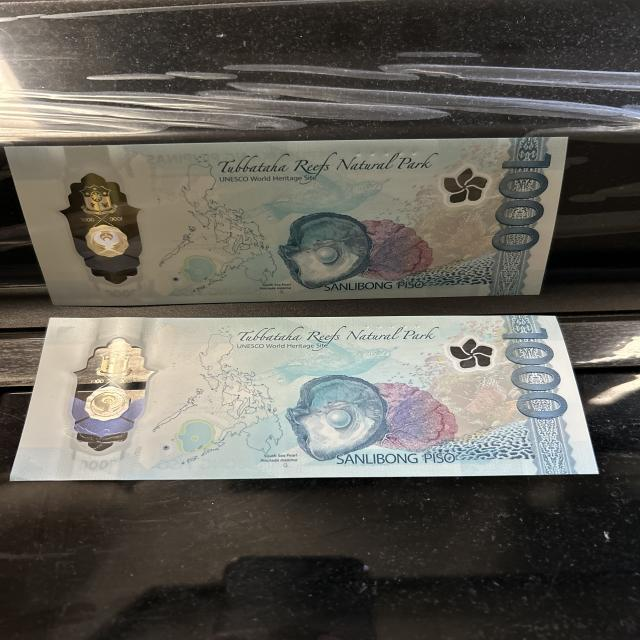clear_window: (50, 174, 151, 293), (72, 331, 146, 459)
sampaguita: (438, 332, 496, 373), (434, 162, 486, 205)
value: (500, 326, 572, 429), (490, 152, 551, 258)
